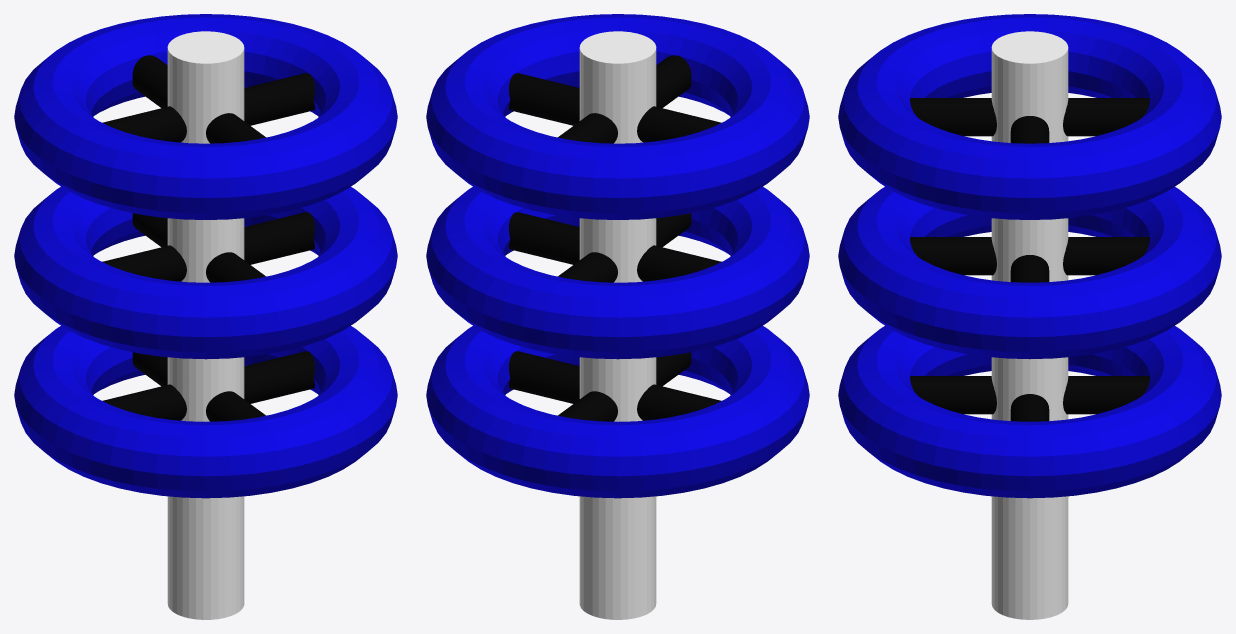
Rendered from ShockTowerModel.fbx.
The picture shows the model from 3 angles, left to right: view 1: azimuth 30°, elevation 25°; view 2: azimuth 150°, elevation 25°; view 3: azimuth 270°, elevation 25°; orthographic projection.
Parts seen in each view (by area): view 1: Cylinder; view 2: Cylinder; view 3: Cylinder.
Part boxes in pixels (x1,y1,x2,y2): Cylinder: (14,14,397,619); Cylinder: (426,14,809,619); Cylinder: (838,14,1221,619).
Bounding box in the file's own units: 125 × 200 × 125.
